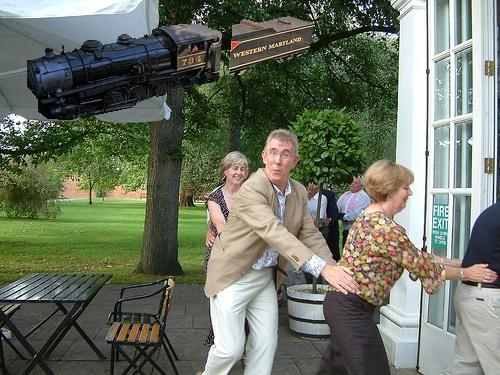tampered: (28, 17, 314, 120)
